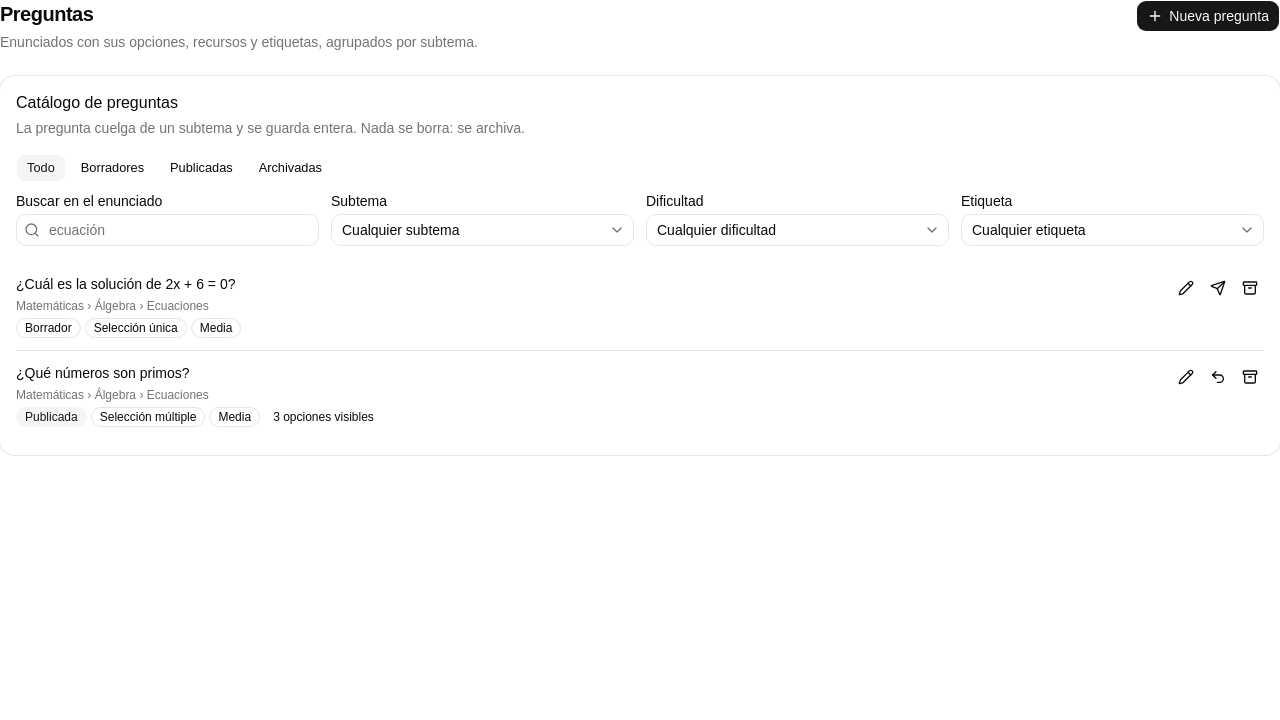
Test: gestión de preguntas › enseña la vista previa con las opciones que se mostrarían y el valor global
The width and height of the screenshot is (1280, 720).
Click the button named "Editar «¿Cuál" at x=1186, y=288, box [1172,274,1200,302]
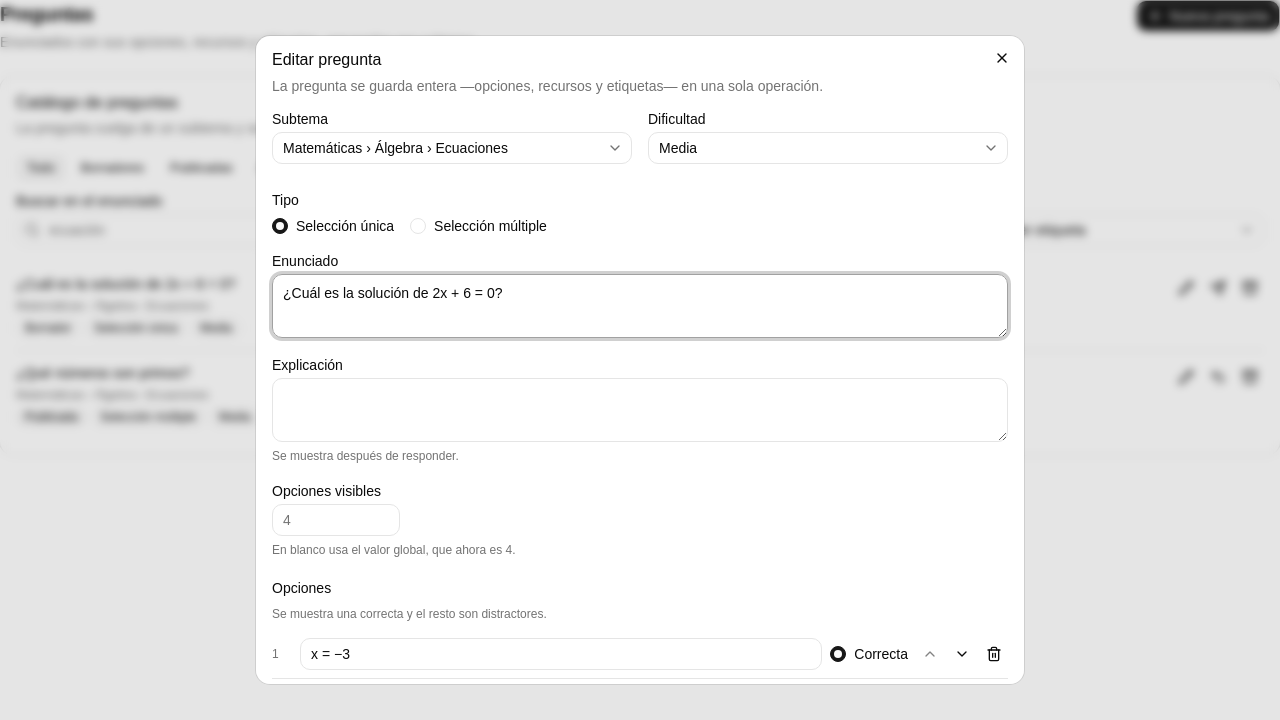
Check: the dialog is shown, box [256,36,1024,684]
Check: the text box labelled "Enunciado" is shown, box [272,274,1008,338]
Check: the text "En blanco usa el valor global, que ahora es 4." is shown, box [272,543,516,557]
